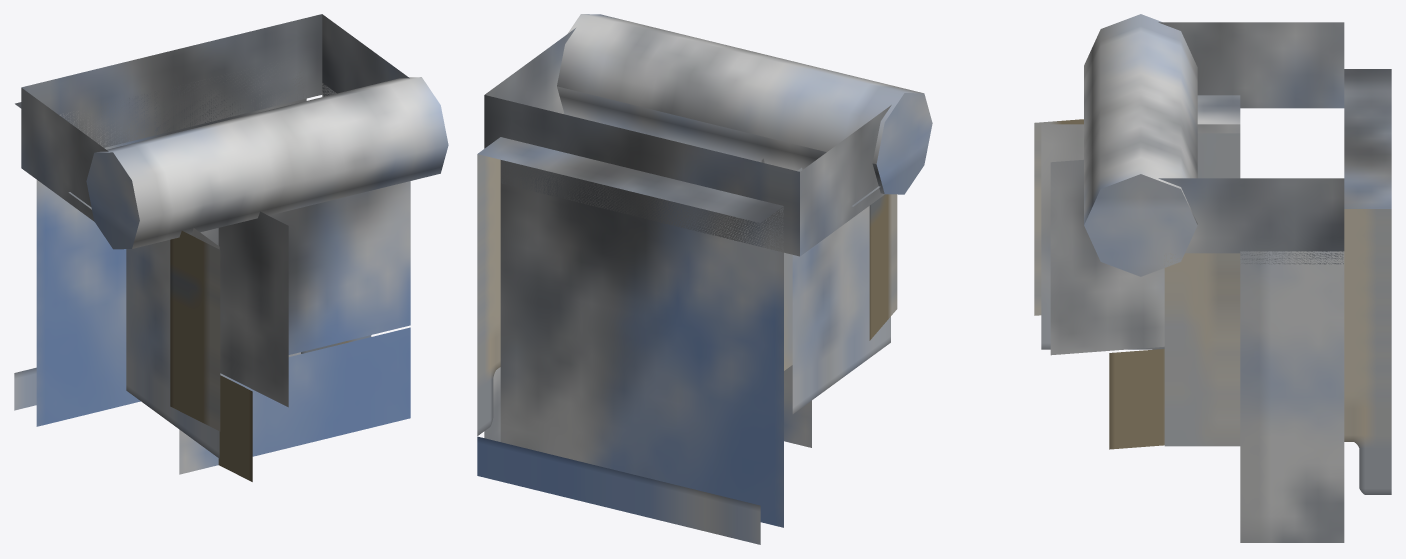
File: section-2.obj
3 views of the same model, side by side, from view 1: azimuth 30°, elevation 25°; view 2: azimuth 150°, elevation 25°; view 3: azimuth 270°, elevation 25° (orthographic). The views are drawn at different scales.
Bounding box in the file's own units: 0.8 × 0.865 × 0.865.
